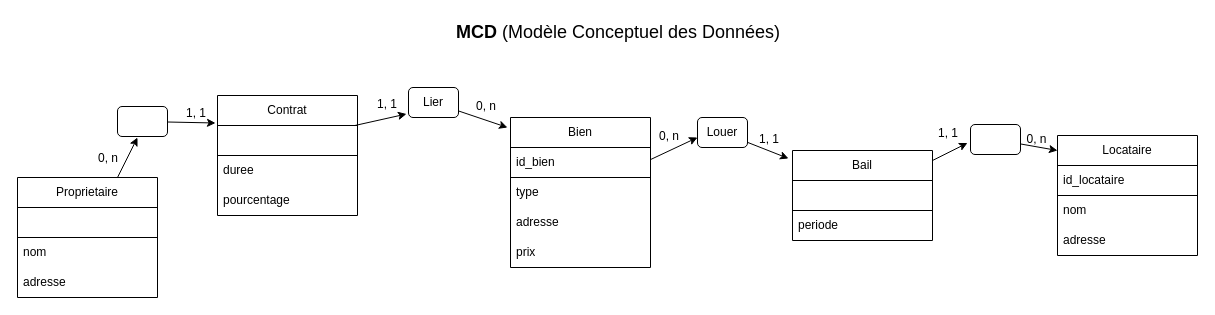
Image size: 1215x315. Some labels were removed from this diagram. The shapes that lost their labels are listed below. From the top down, each one's centre as x and y in pixels, then its label:
At point 142,121: "Créer".
At point 287,140: "id_contrat".
At point 995,139: "Signer".
At point 862,195: "id_bail".
At point 87,222: "id_proprietaire".
